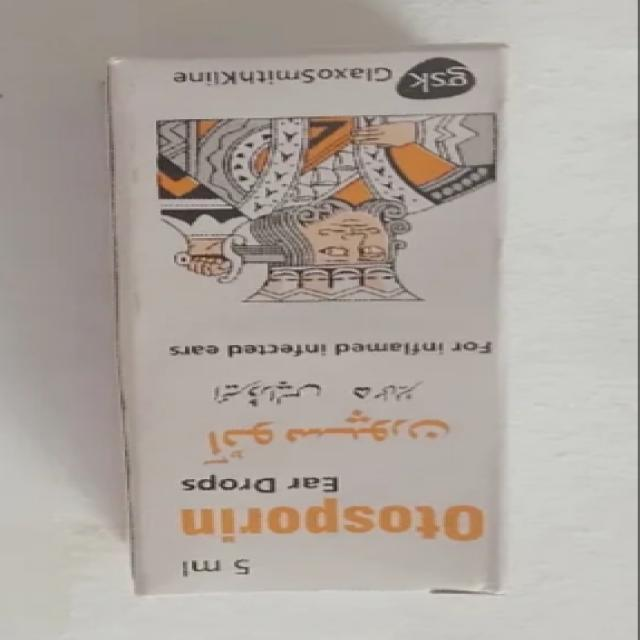drug-name: (167, 497, 493, 548)
